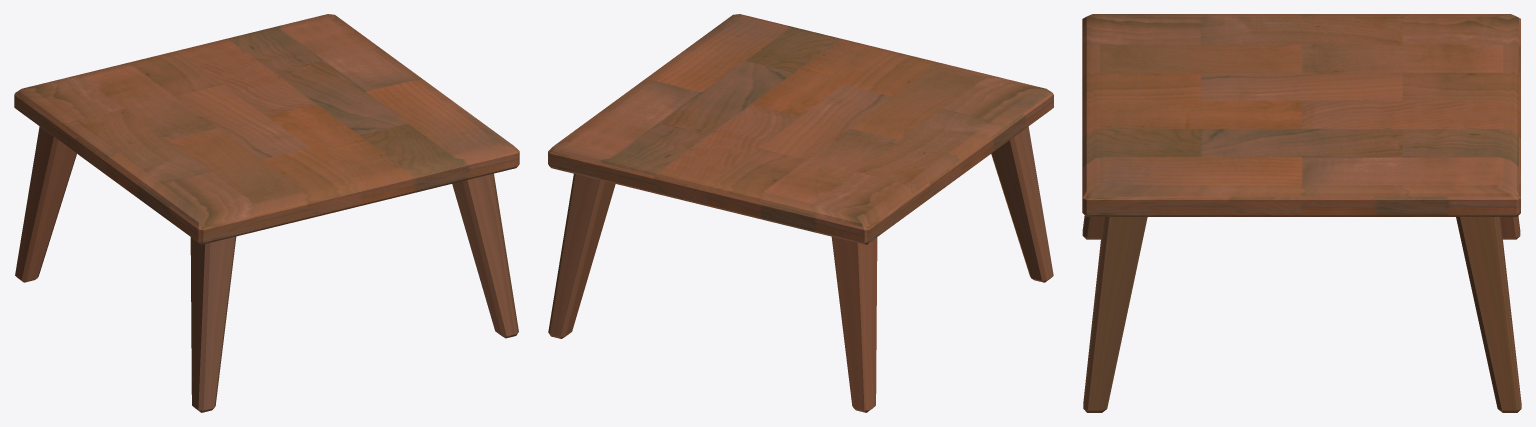
The model's file is Table 1.FBX.
3 views of the same model, side by side, from view 1: azimuth 30°, elevation 25°; view 2: azimuth 150°, elevation 25°; view 3: azimuth 270°, elevation 25° (orthographic). The views are drawn at different scales.
Parts seen in each view (by area): view 1: Box001; view 2: Box001; view 3: Box001.
Part boxes in pixels (bbox=[...]): Box001: bbox=[14, 14, 519, 412]; Box001: bbox=[548, 14, 1053, 412]; Box001: bbox=[1082, 14, 1521, 412].
Bounding box in the file's own units: 100 × 56.91 × 102.
1 material, 1 textured.
